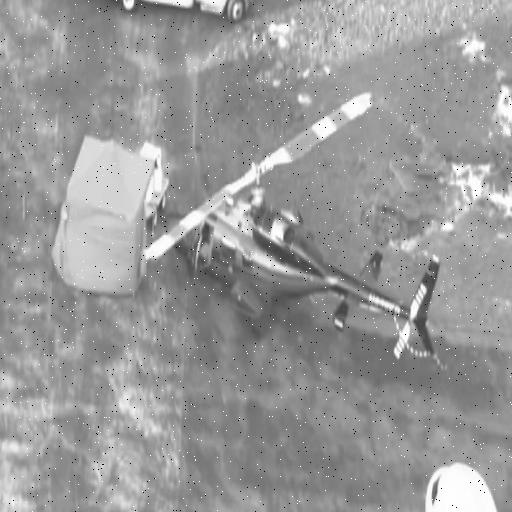helicopter: (133, 96, 454, 385)
